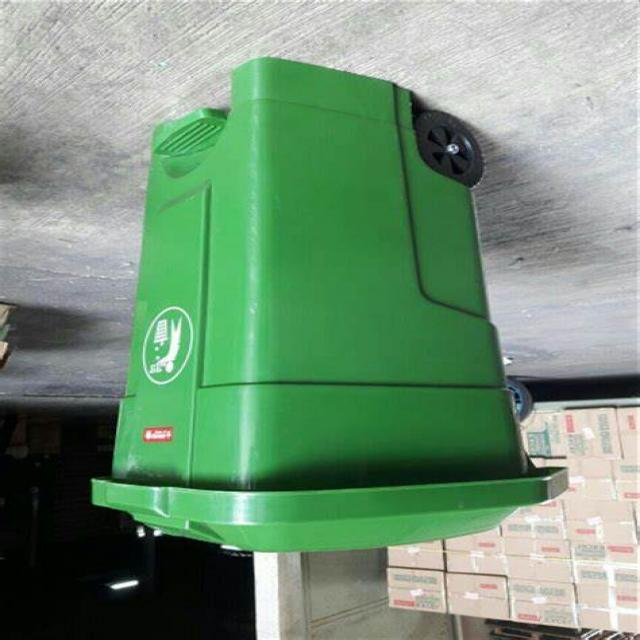garbage container: (72, 47, 581, 567)
